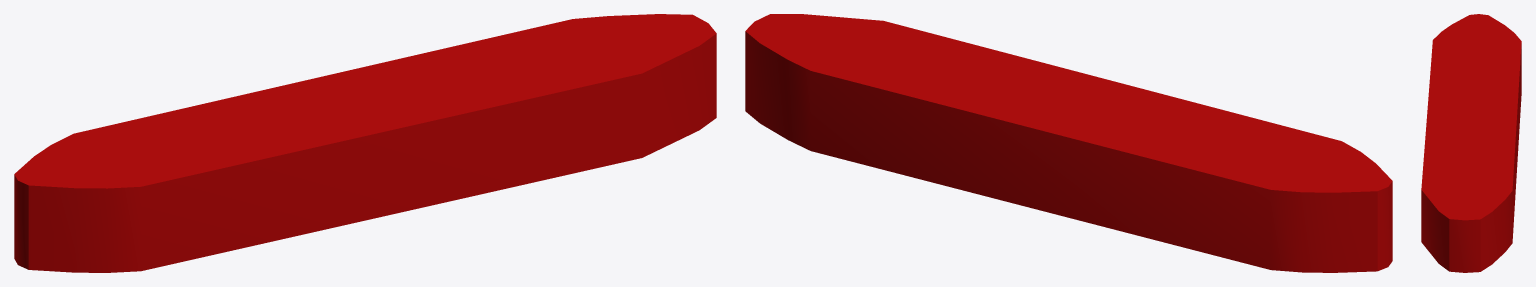
File: vessel.glb
3 renders of one model, left to right at view 1: azimuth 30°, elevation 25°; view 2: azimuth 150°, elevation 25°; view 3: azimuth 270°, elevation 25°, orthographic. The views are drawn at different scales.
Parts seen in each view (by area): view 1: 3D Solid; view 2: 3D Solid; view 3: 3D Solid.
Boxes of the visible parts, bbox=[...] form: 3D Solid: bbox=[14, 14, 716, 272]; 3D Solid: bbox=[745, 14, 1392, 272]; 3D Solid: bbox=[1421, 14, 1521, 272].
Bounding box in the file's own units: 294 × 35 × 60.46.
